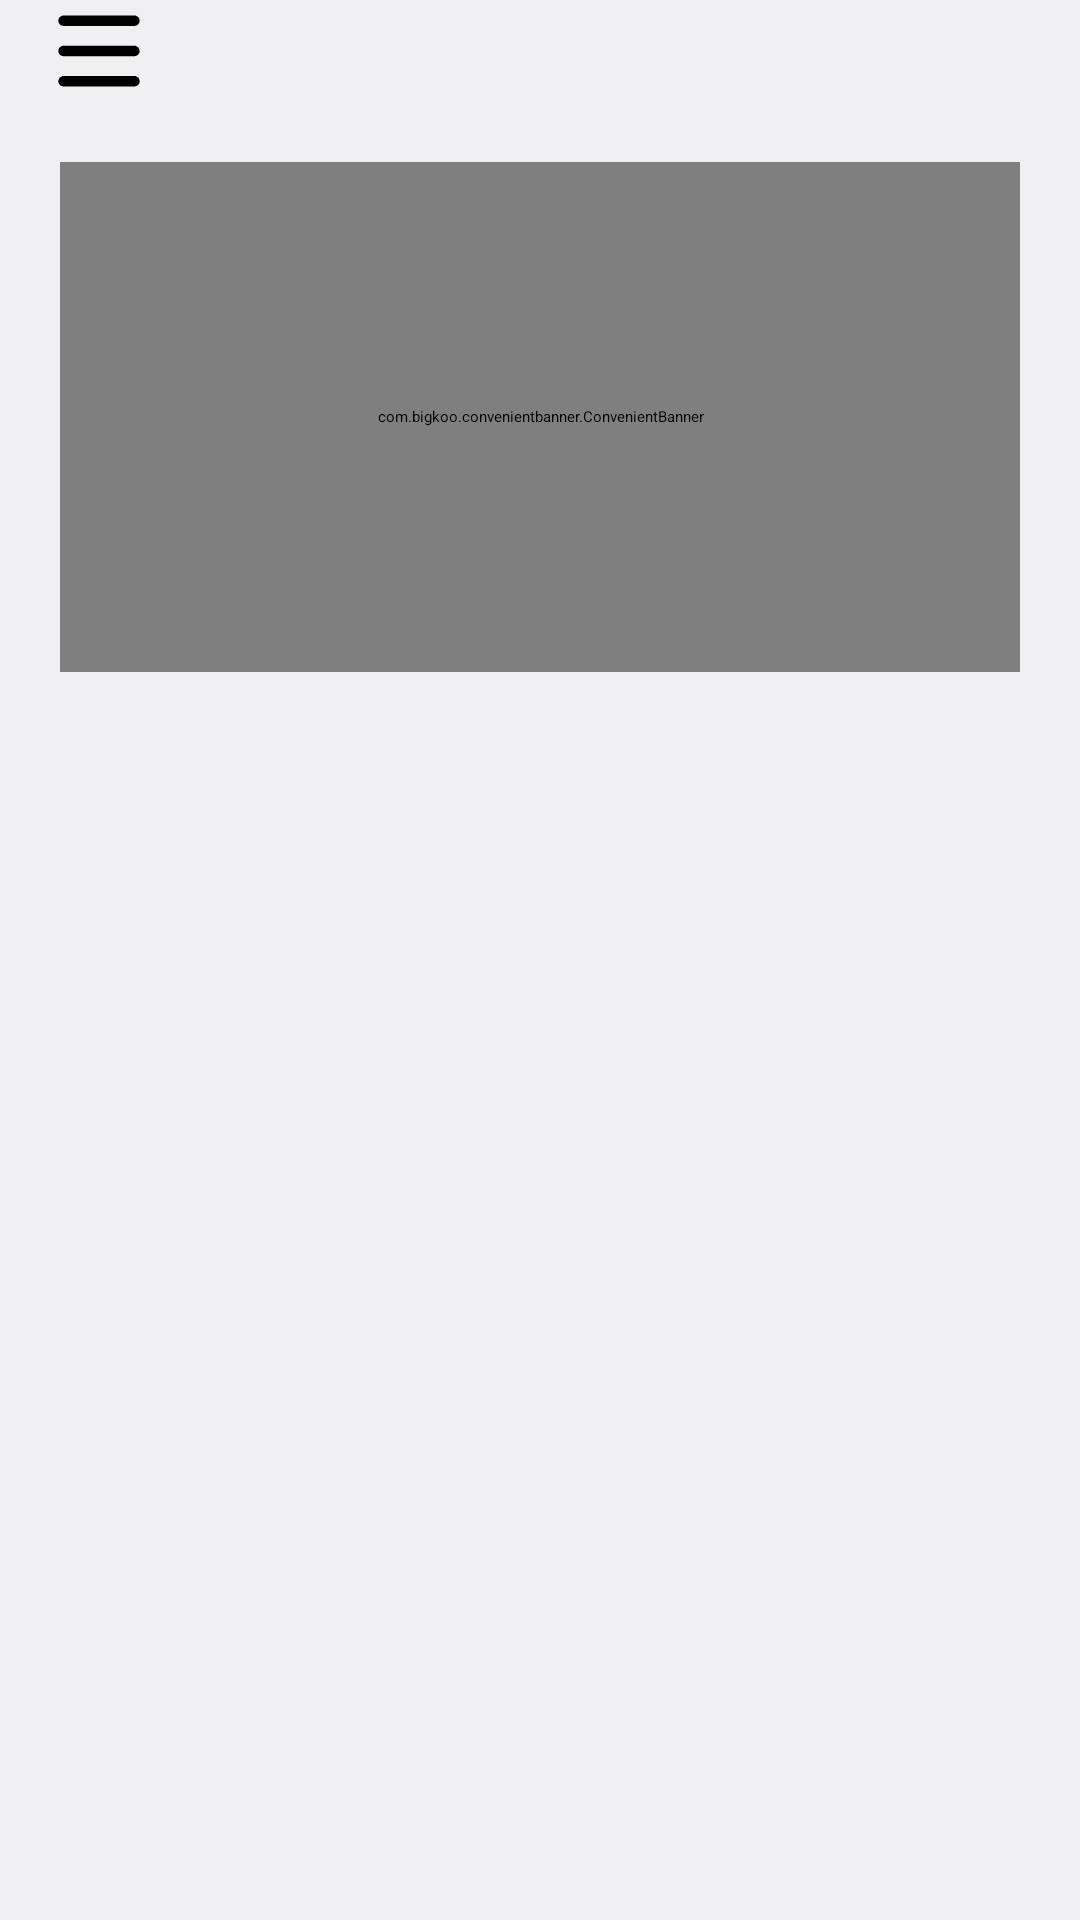

Screen size 1080px x 1920px. Icon name, then its box in pixels as (x1, y1, x2, y2):
drawer home: (58, 15, 140, 87)
